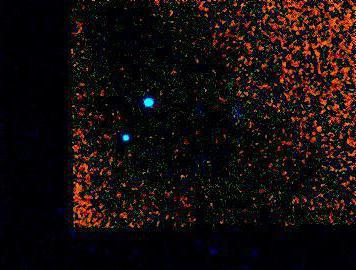star: (170, 156, 200, 186)
